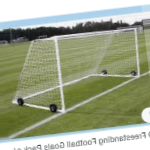goals: (11, 25, 141, 116)
